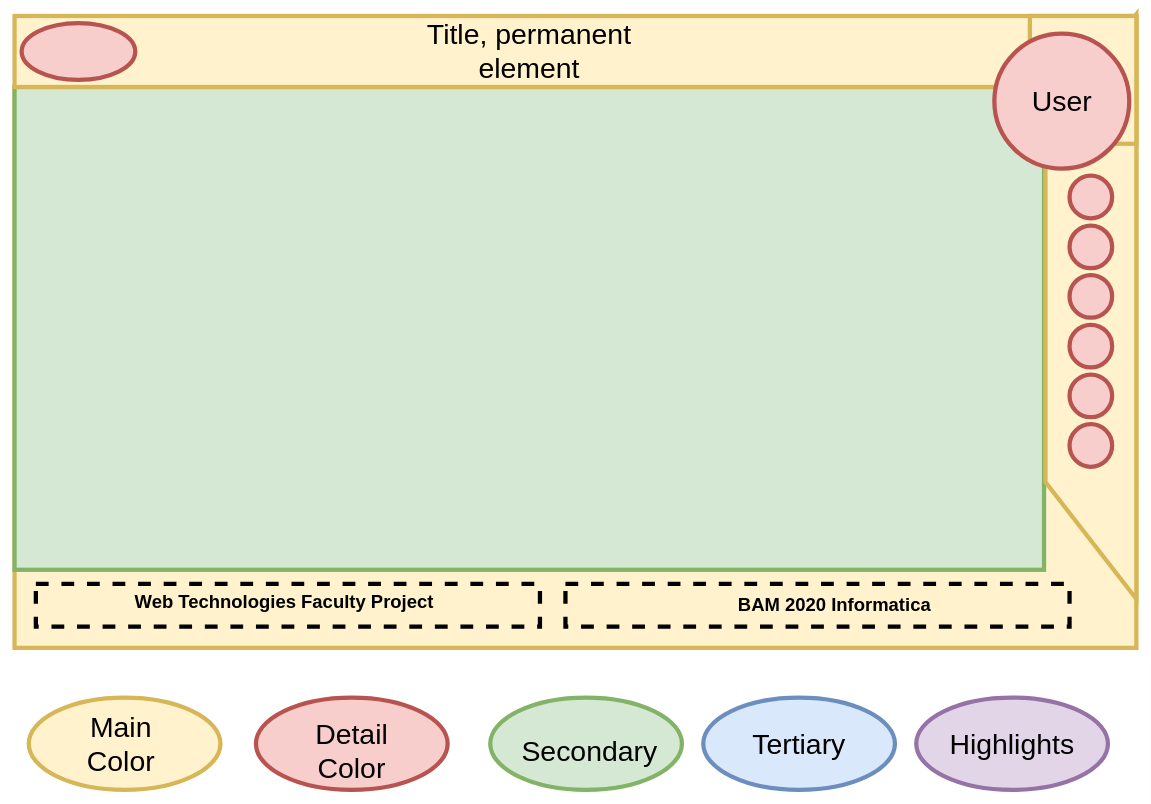
Some shapes in this 1151 by 804 pixel diagram are drawn without their labels. The shapes that lost their labels are listed below. From the top down, each one's centre as x and y in pixels, then its label:
At (78,51): "Logo".
At (529,328): "Results, Only if Search is clicked, otherwise empty/default".
